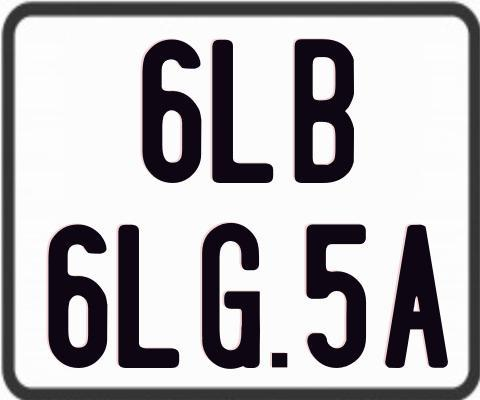5: (305, 221, 368, 367)
6: (47, 223, 111, 373), (142, 39, 203, 188)
A: (385, 222, 453, 365)
B: (292, 38, 355, 187)
G: (201, 223, 263, 372)
L: (212, 38, 278, 183), (115, 225, 178, 369)
